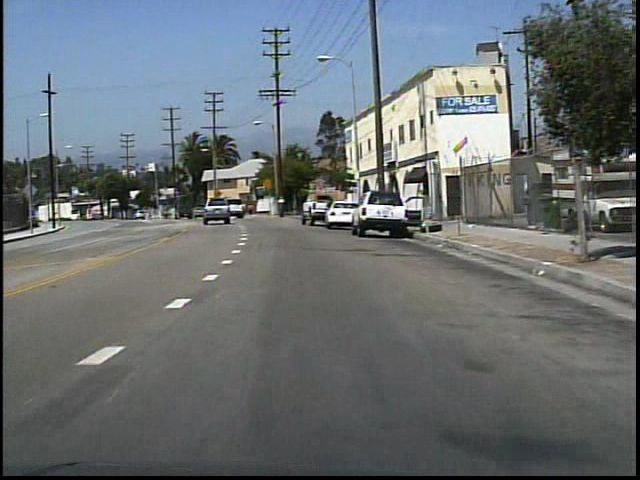person: (246, 201, 257, 219)
